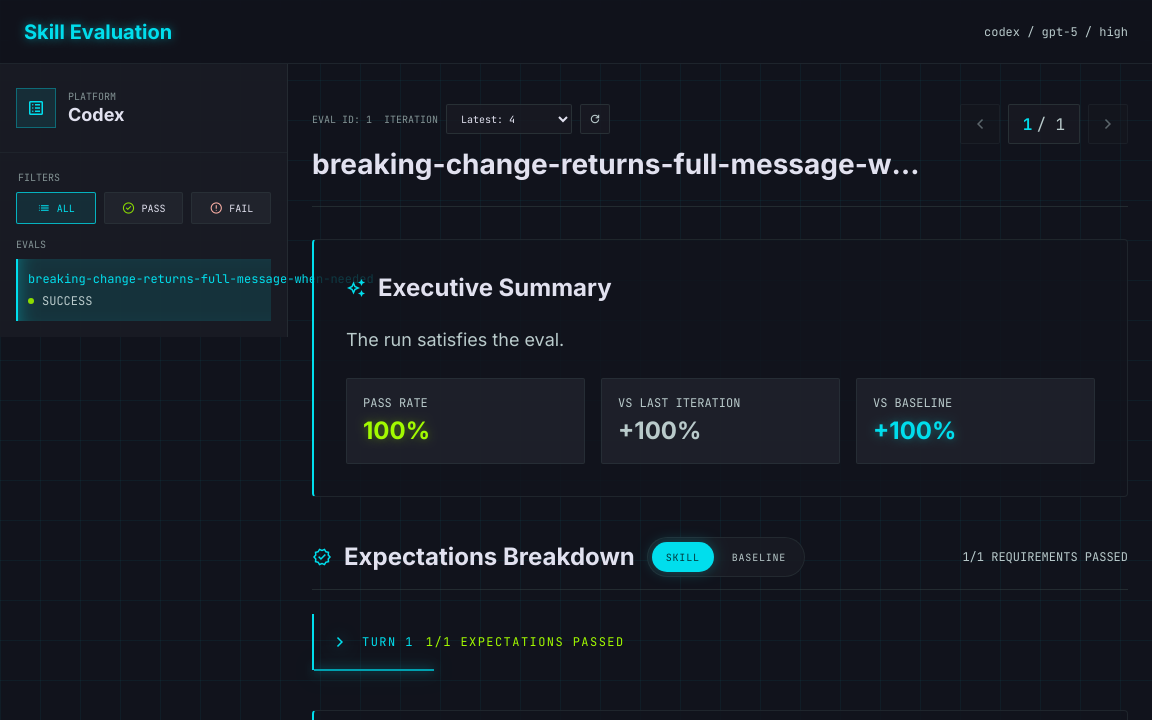
Test: switches the expectations breakdown between skill and baseline results
Expected: the text "1/1 requirements passed" is shown, x1=962 y1=549 x2=1128 y2=565
Click the button "baseline" at point(759, 557), box x1=718 y1=542 x2=800 y2=572
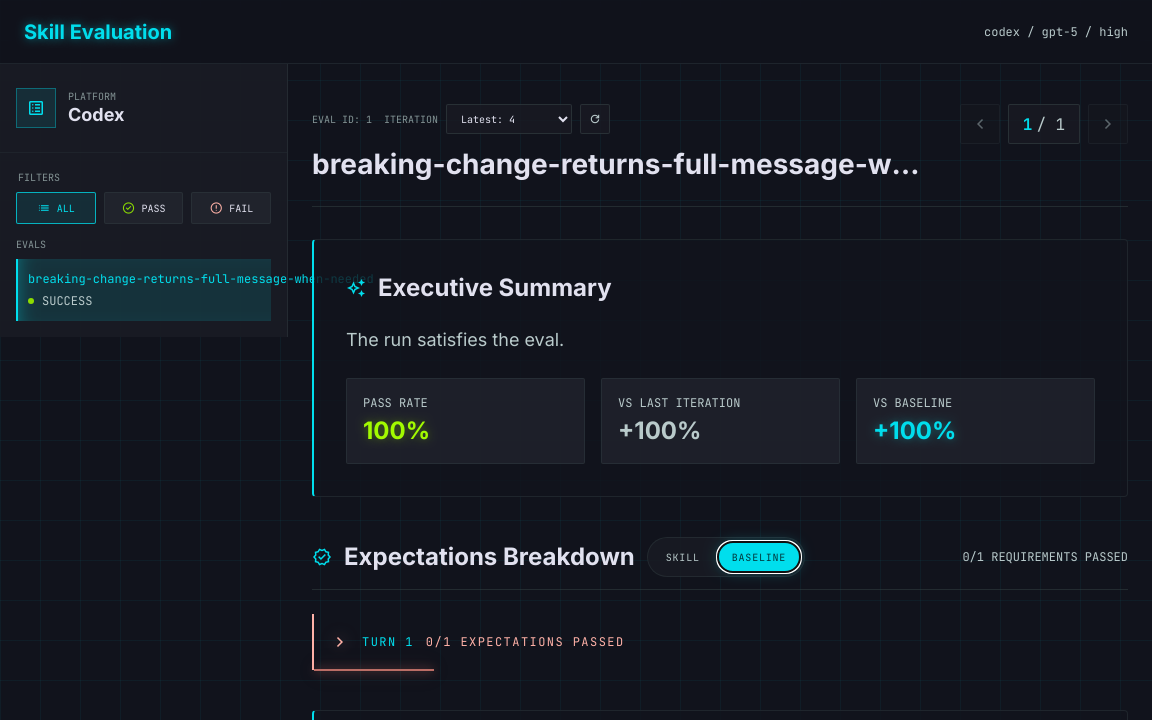
Result: the text "0/1 requirements passed" is shown at x1=962 y1=549 x2=1128 y2=565
